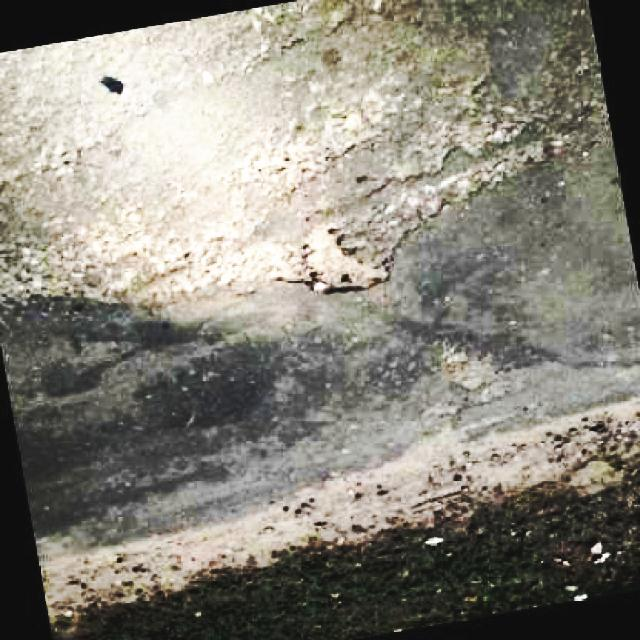pothole: (298, 222, 391, 300)
